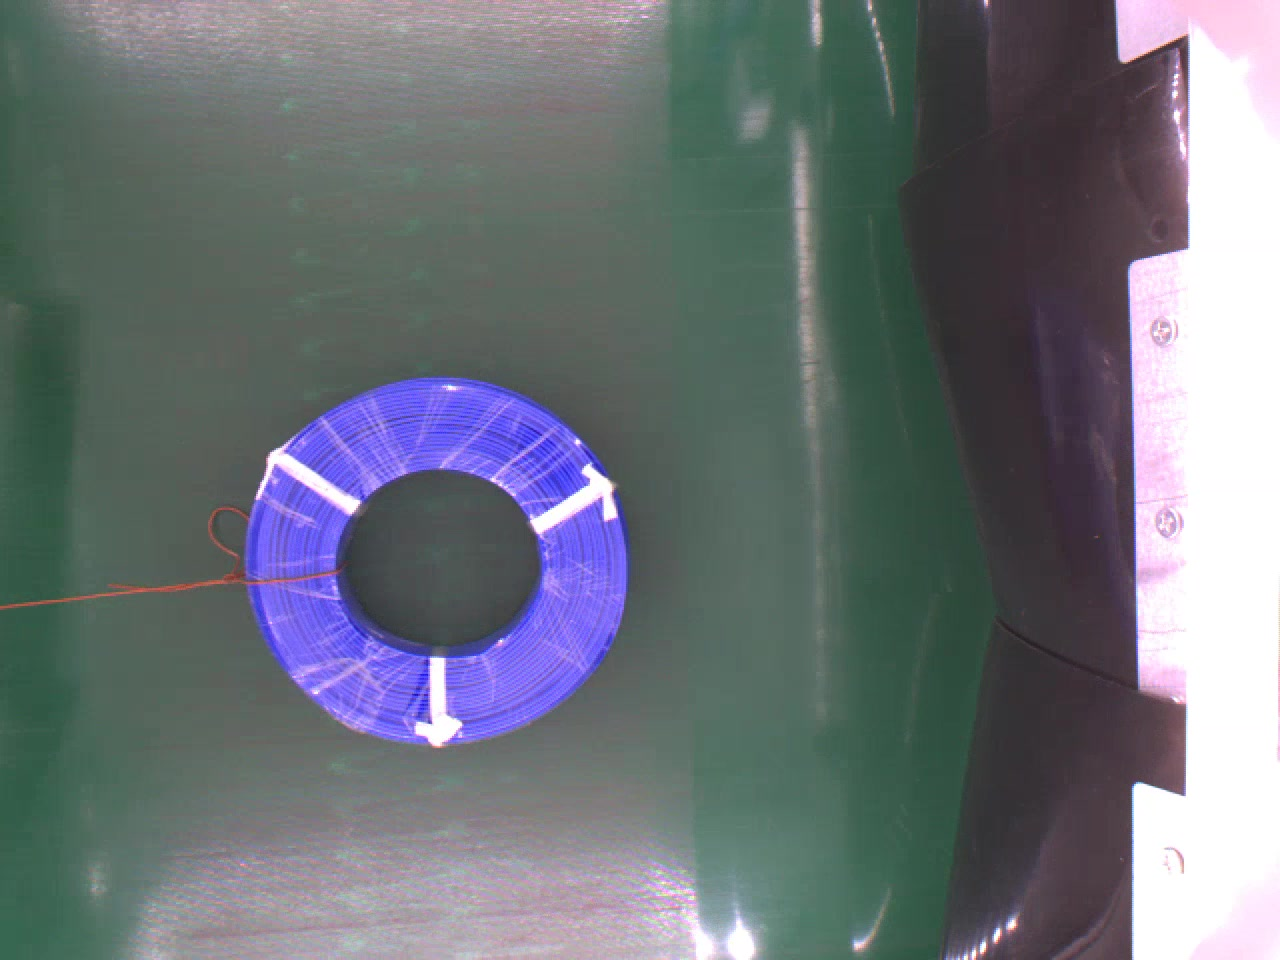blue: (247, 373, 626, 747)
